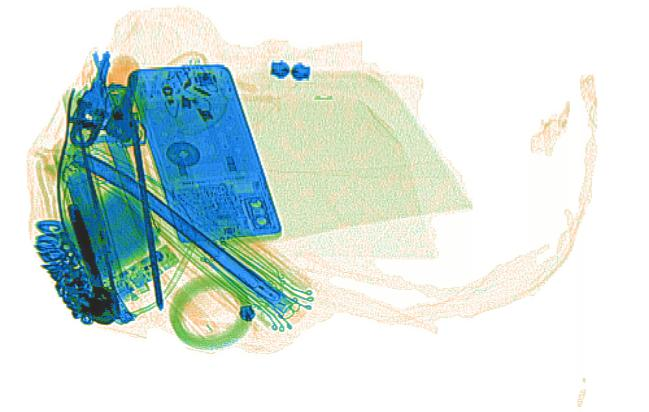battery: (65, 168, 113, 269)
